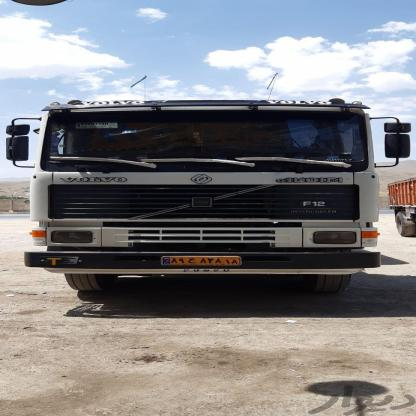Truck: (0, 90, 416, 311)
